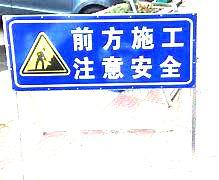sign: (8, 18, 195, 86)
